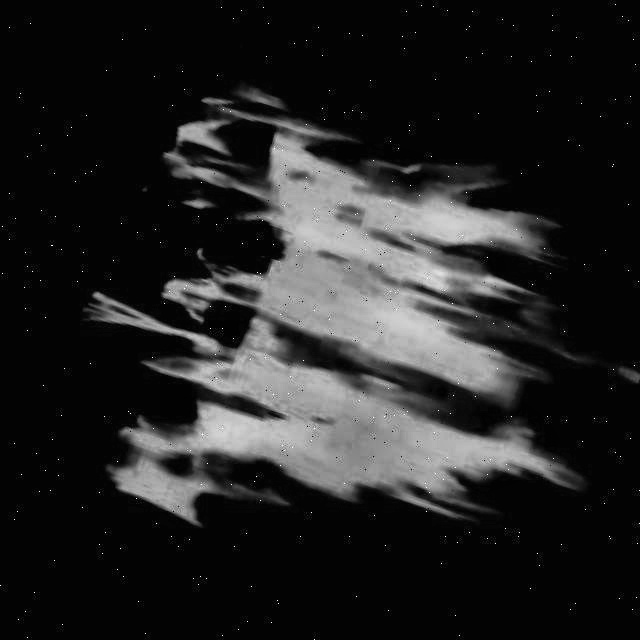Fire: (9, 2, 640, 640)
